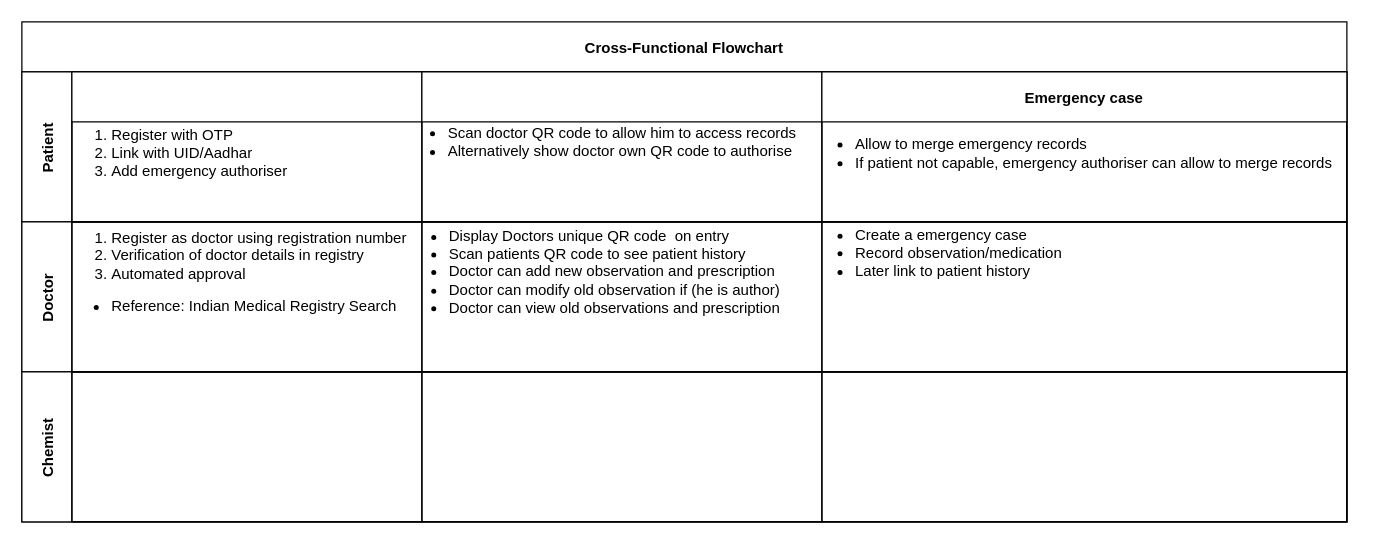
The diagram is 1375 pixels wide and 544 high, and some of its shapes have lost their labels. The box of each missing label's shape, as (x1, y1, x2, y2) in pixels:
Patient visit doctor: (421, 71, 822, 222)
Registration: (71, 71, 422, 222)
